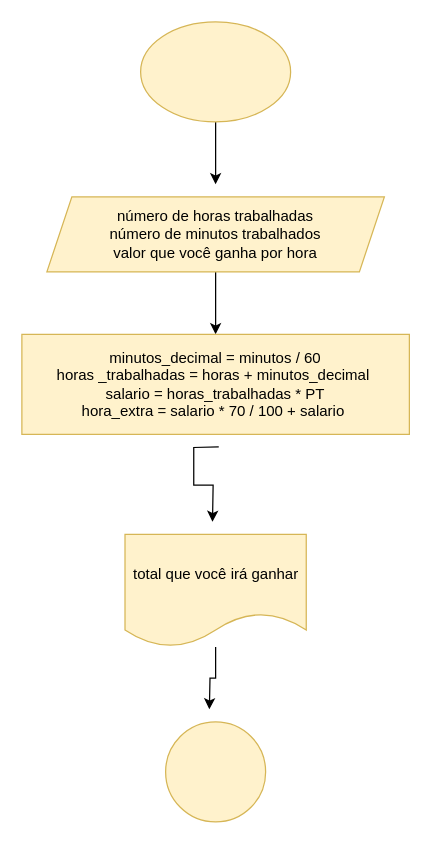
The diagram is 431 pixels wide and 844 high, and some of its shapes have lost their labels. Each missing label, with the centre of its shape:
"fim" goes at point (215, 771).
"inicio" goes at point (215, 71).
